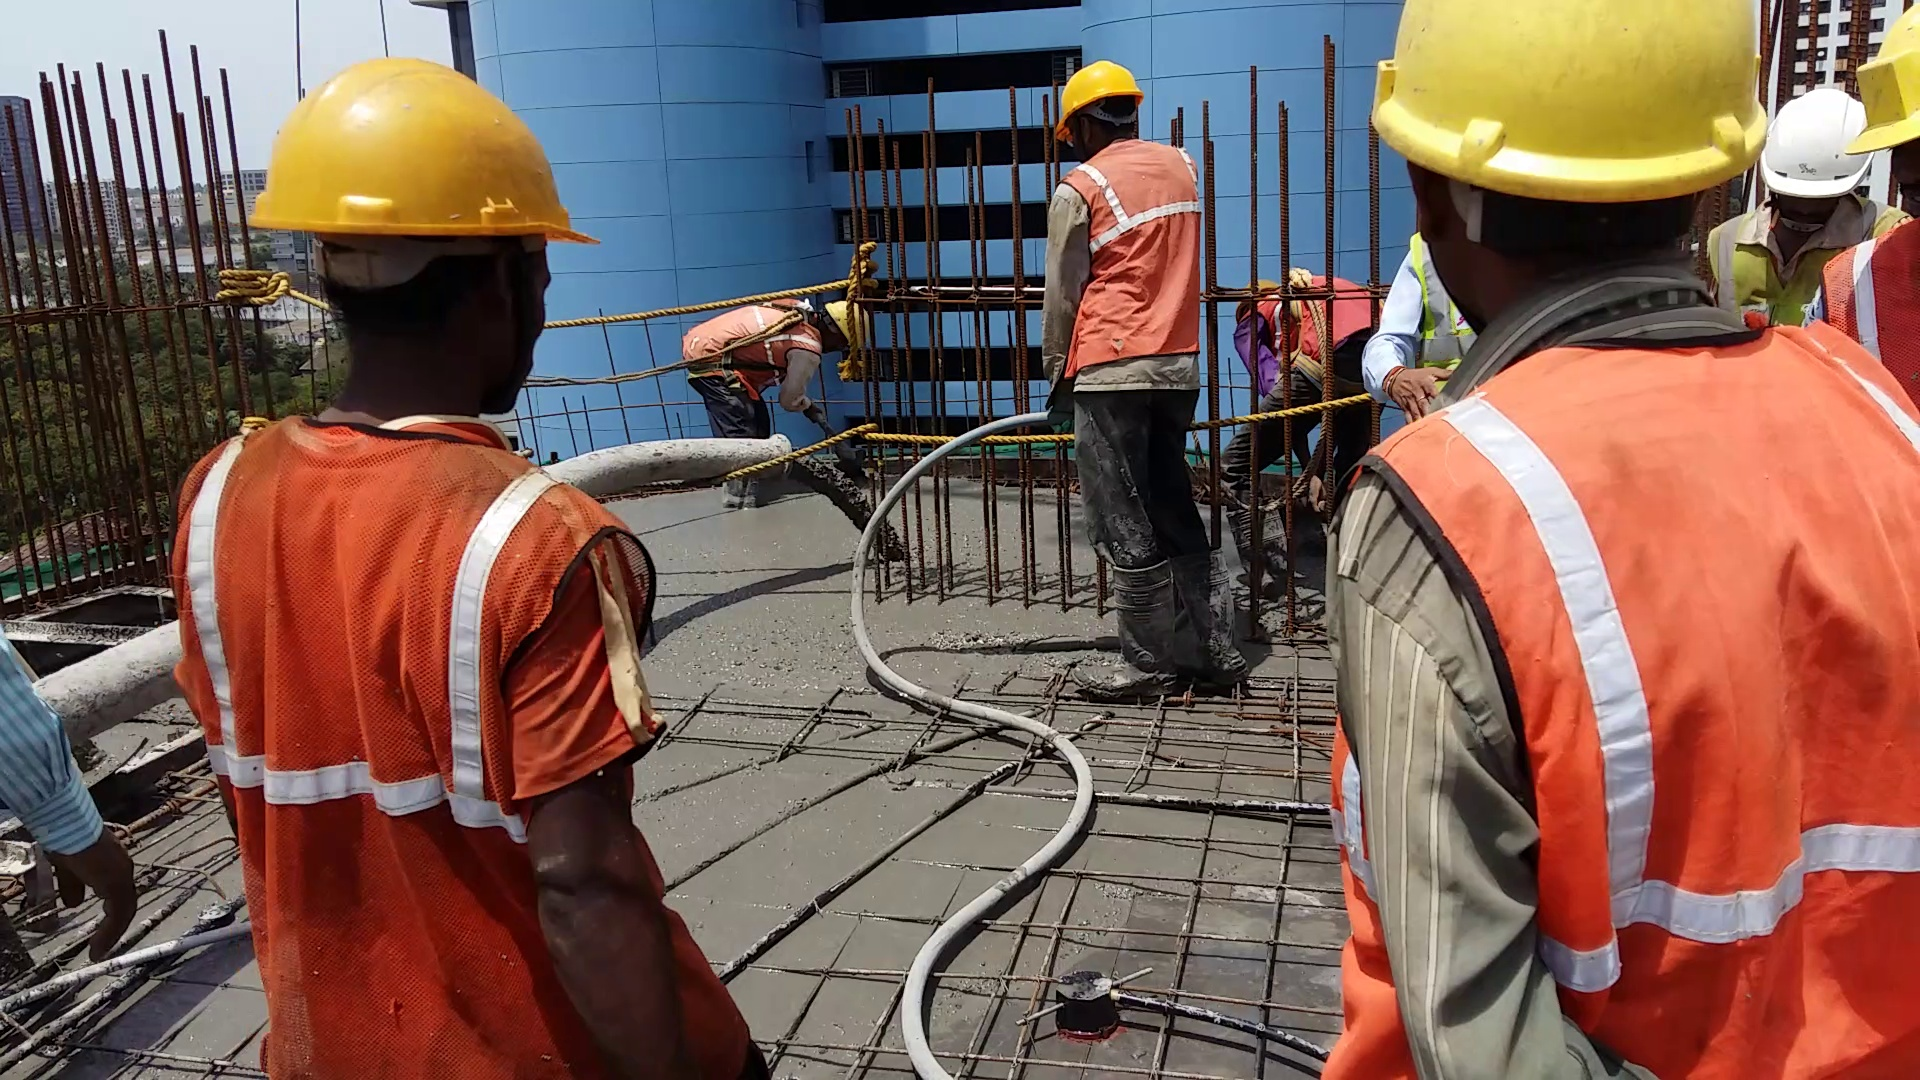SAFE: (174, 47, 595, 1080), (1352, 5, 1763, 992), (1048, 58, 1203, 384), (1763, 75, 1855, 316), (673, 287, 860, 378)
